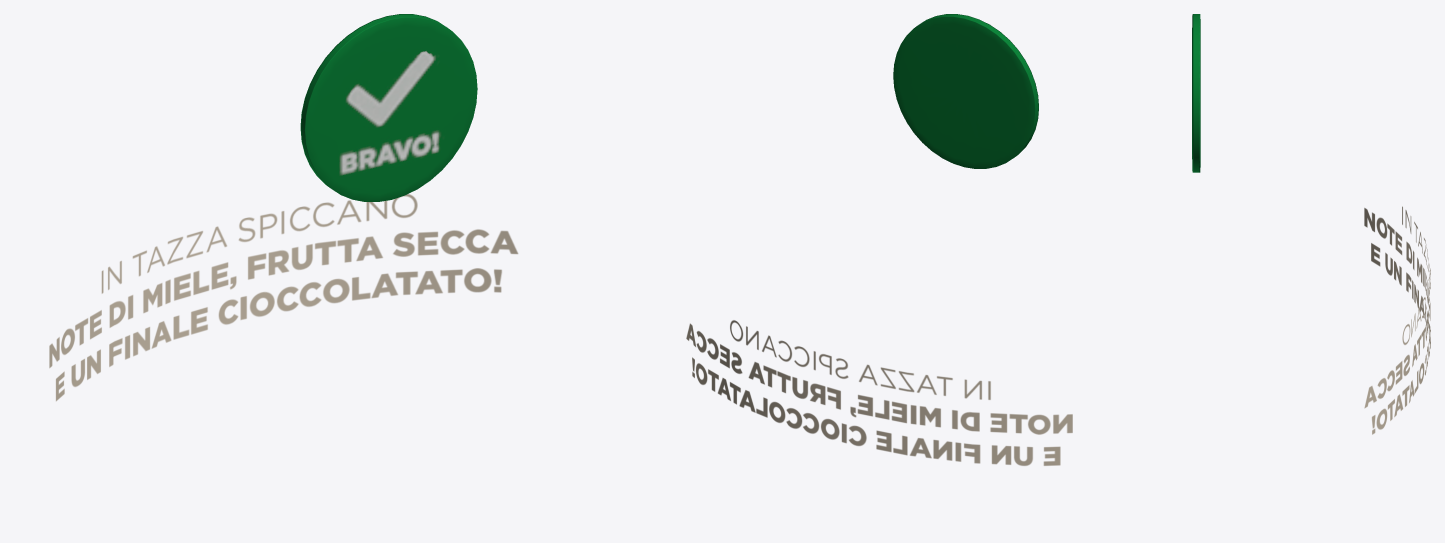
Rendered from altecocorrecttext.glb.
3 views of the same model, side by side, from view 1: azimuth 30°, elevation 25°; view 2: azimuth 150°, elevation 25°; view 3: azimuth 270°, elevation 25° (orthographic). The views are drawn at different scales.
Visible parts, largest first — view 1: bravo_coin_low, alteco_text.001; view 2: bravo_coin_low, alteco_text.001; view 3: alteco_text.001, bravo_coin_low.
Boxes of the visible parts, x1,y1,x2,y2 form: bravo_coin_low: (300, 14, 477, 201); alteco_text.001: (49, 194, 518, 401); bravo_coin_low: (893, 14, 1038, 168); alteco_text.001: (686, 320, 1072, 465); alteco_text.001: (1364, 206, 1430, 434); bravo_coin_low: (1192, 14, 1200, 172).
Bounding box in the file's own units: 1.53 × 1.15 × 0.6434.
Materials: 2 (2 with a texture image).
